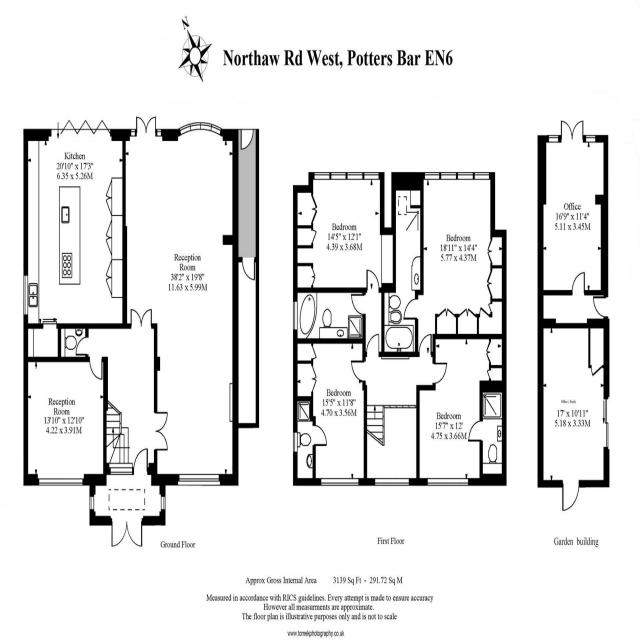DOOR: (562, 479, 581, 514), (154, 410, 169, 453), (133, 446, 149, 475), (592, 295, 609, 318), (571, 269, 586, 295), (432, 362, 448, 385), (467, 420, 483, 443), (350, 360, 366, 382), (350, 293, 366, 315), (366, 268, 380, 293), (366, 333, 380, 357), (89, 356, 103, 380), (403, 298, 418, 320), (419, 333, 432, 357)
DOUBLE DOOR: (110, 516, 144, 549), (561, 117, 584, 143), (129, 305, 153, 329), (136, 115, 157, 137)
FOLDING DOOR: (50, 116, 113, 139)
ROOM: (122, 111, 239, 486), (23, 128, 127, 329), (403, 172, 507, 358), (538, 319, 609, 516), (416, 334, 507, 486), (538, 115, 608, 296), (293, 172, 396, 293), (23, 356, 108, 486), (293, 338, 367, 486)
SLIDING DOOR: (604, 397, 610, 450)
WINDOW: (179, 122, 222, 136), (177, 473, 220, 486), (39, 478, 83, 486), (320, 477, 359, 486), (108, 462, 133, 476), (427, 478, 468, 486), (374, 478, 410, 486), (23, 275, 28, 315), (293, 301, 298, 330), (314, 172, 330, 180), (347, 172, 363, 180), (425, 172, 440, 180), (441, 172, 456, 180), (458, 172, 473, 180), (474, 172, 489, 180), (331, 172, 346, 180), (364, 172, 379, 180), (548, 134, 559, 144), (585, 134, 596, 144), (293, 432, 298, 453), (131, 129, 135, 137), (157, 129, 161, 137)
